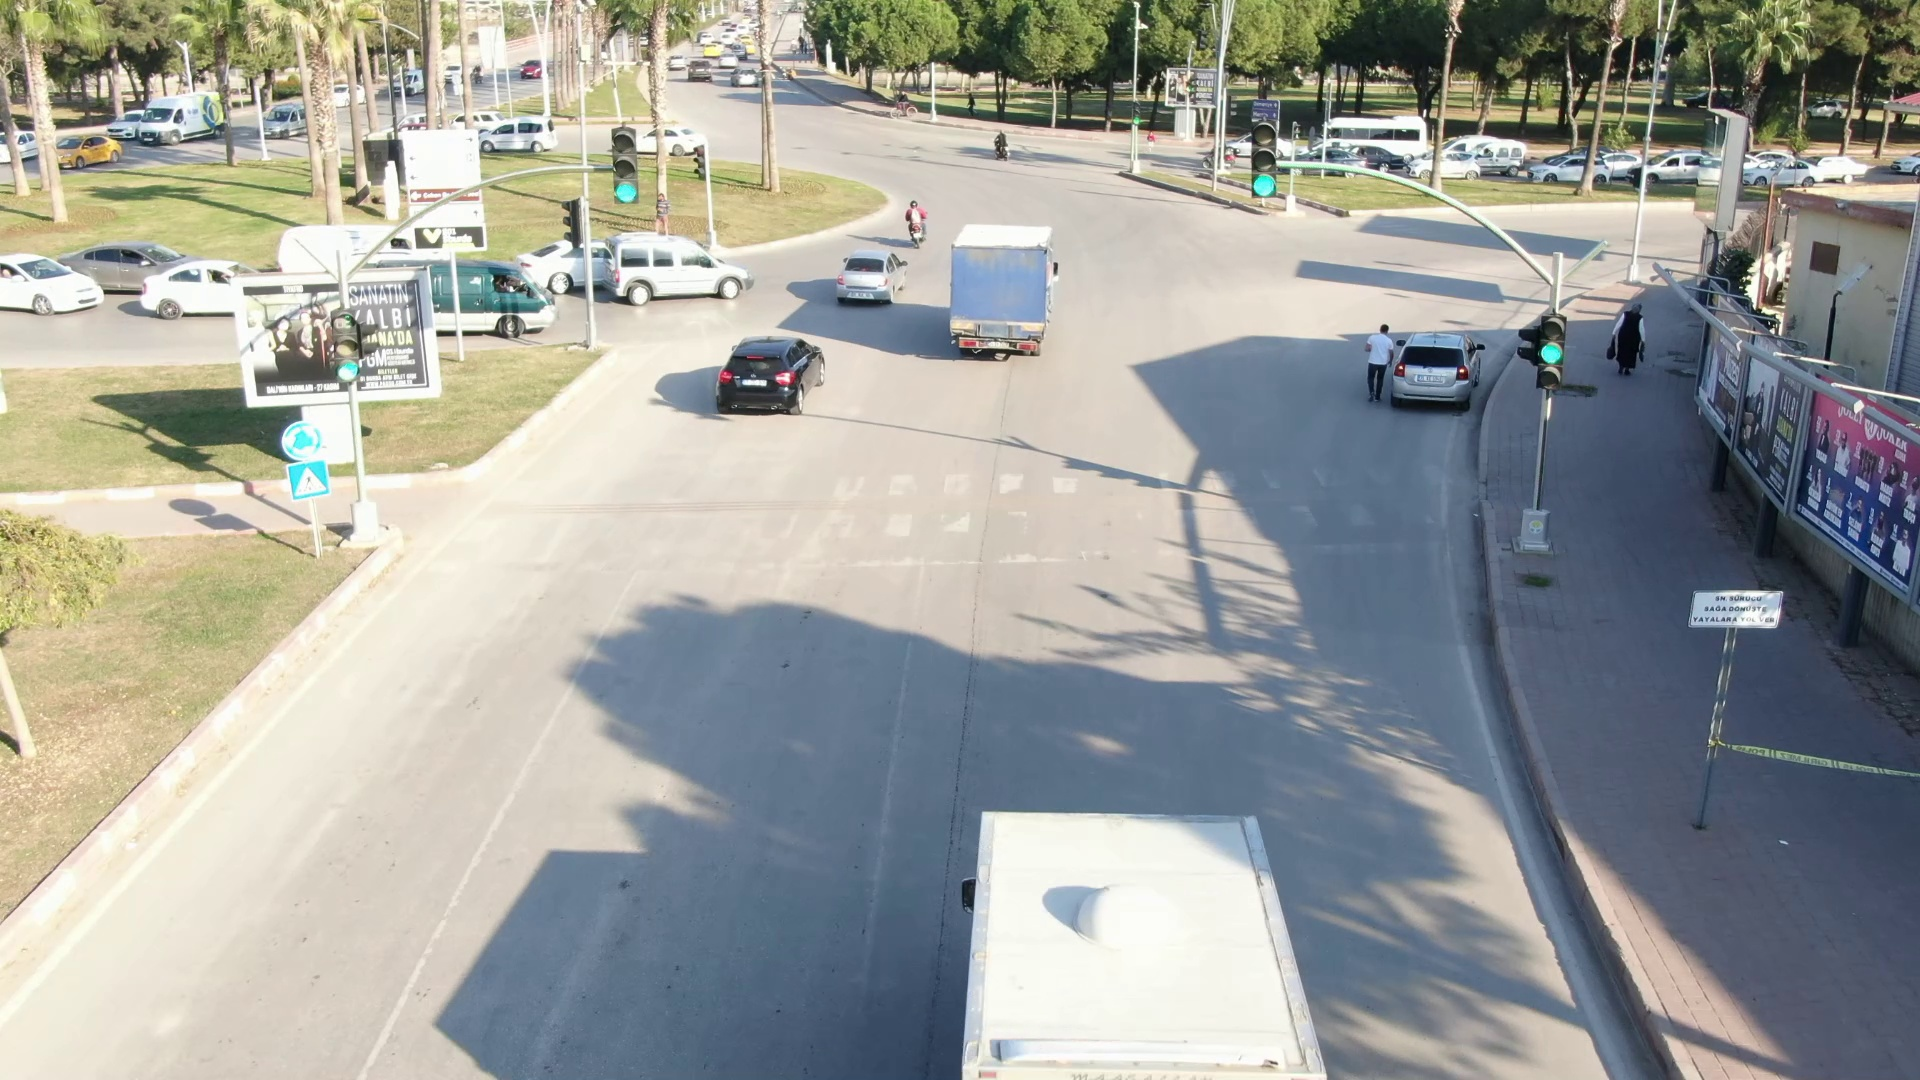car: (597, 223, 760, 311), (712, 320, 839, 419), (431, 254, 565, 340), (1389, 325, 1494, 407), (1, 251, 116, 320), (136, 250, 237, 327), (129, 88, 237, 147), (823, 243, 912, 311), (1525, 144, 1616, 190), (45, 128, 126, 177)
person: (1611, 295, 1656, 379), (1357, 319, 1393, 406)
